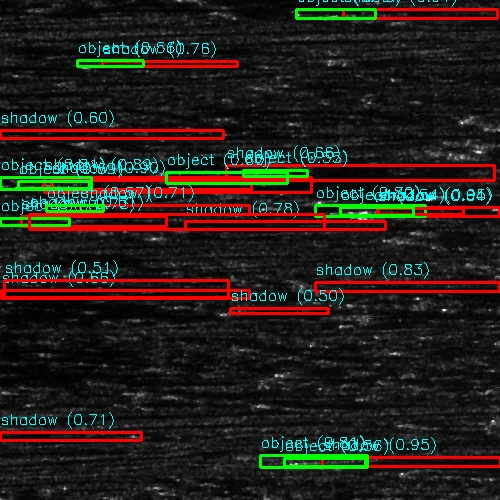rock: (0, 177, 142, 192), (296, 204, 441, 217), (0, 215, 95, 230), (242, 457, 377, 466), (425, 144, 500, 153), (290, 196, 383, 203), (273, 284, 356, 291), (424, 191, 465, 198), (337, 312, 390, 317), (55, 208, 86, 211)
shadow: (0, 306, 484, 319), (33, 177, 413, 192), (28, 215, 224, 230), (0, 280, 150, 299), (310, 457, 500, 466), (369, 204, 500, 217), (0, 431, 117, 442), (71, 208, 500, 211), (337, 196, 500, 203), (0, 293, 218, 298), (315, 284, 455, 291), (364, 312, 500, 317), (445, 191, 500, 198), (478, 144, 500, 153)
